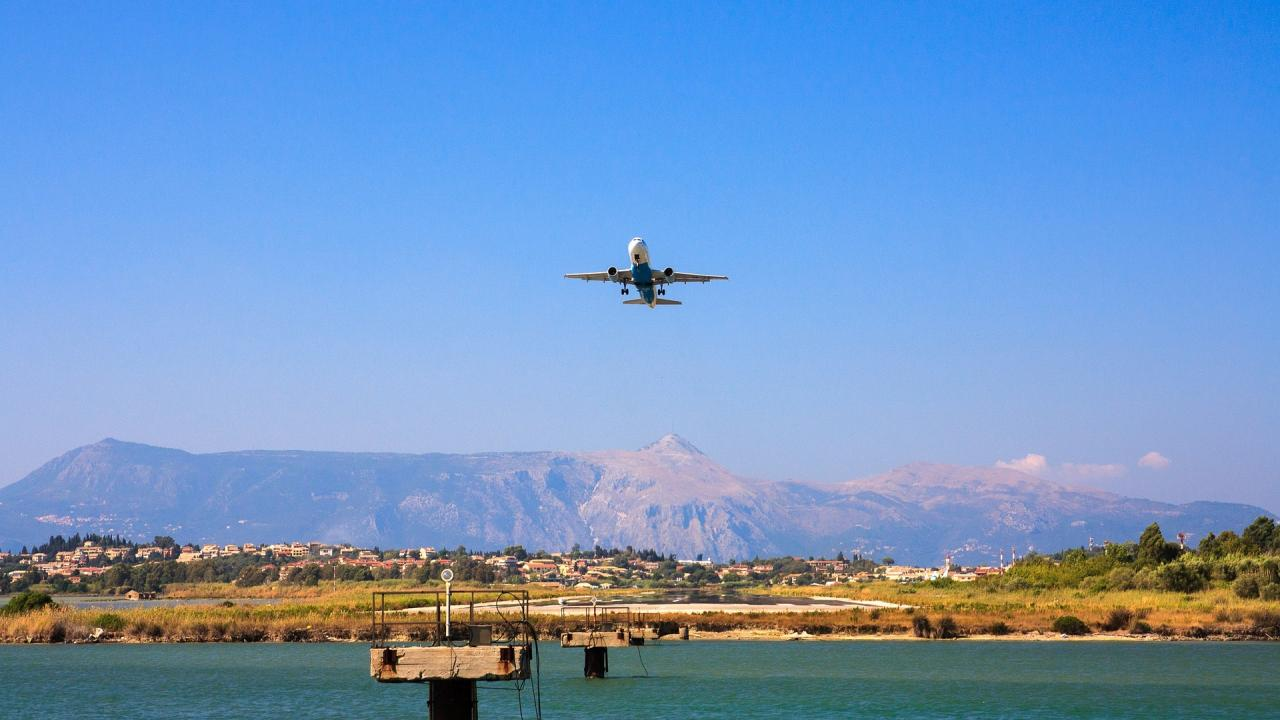Airplane: (561, 230, 738, 316)
